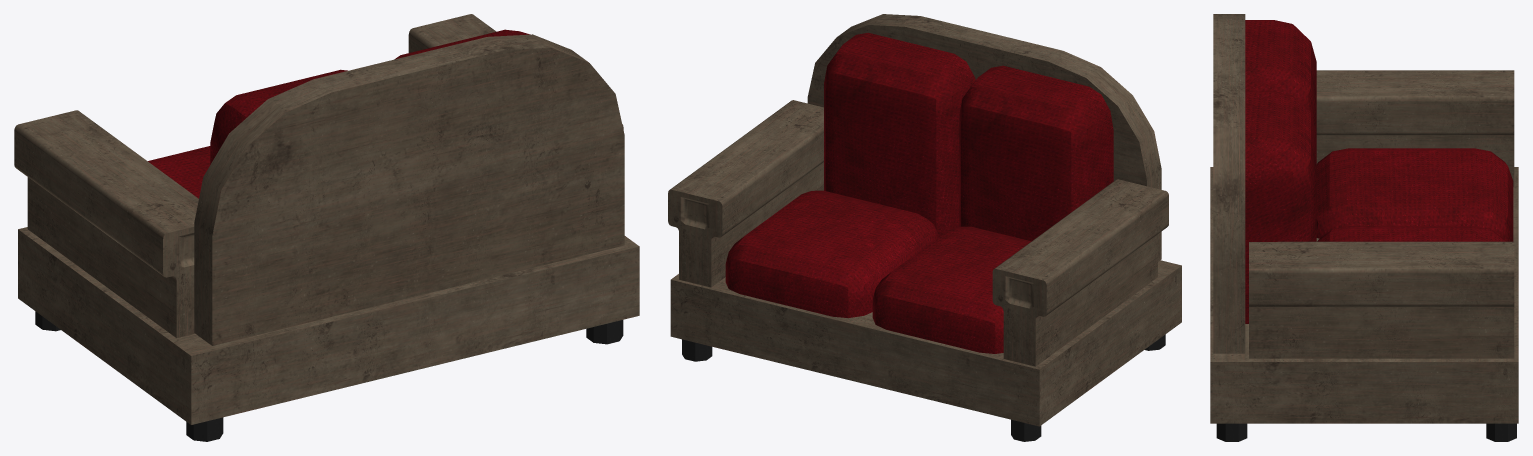
Rendered from Couch.fbx.
3 views of the same model, side by side, from view 1: azimuth 30°, elevation 25°; view 2: azimuth 150°, elevation 25°; view 3: azimuth 270°, elevation 25° (orthographic). The views are drawn at different scales.
Parts seen in each view (by area): view 1: Couch1; view 2: Couch1; view 3: Couch1.
Boxes of the visible parts, <box> form: Couch1: <box>14,14,639,441</box>; Couch1: <box>668,14,1181,441</box>; Couch1: <box>1210,14,1518,441</box>.
Bounding box in the file's own units: 229 × 153 × 149.
